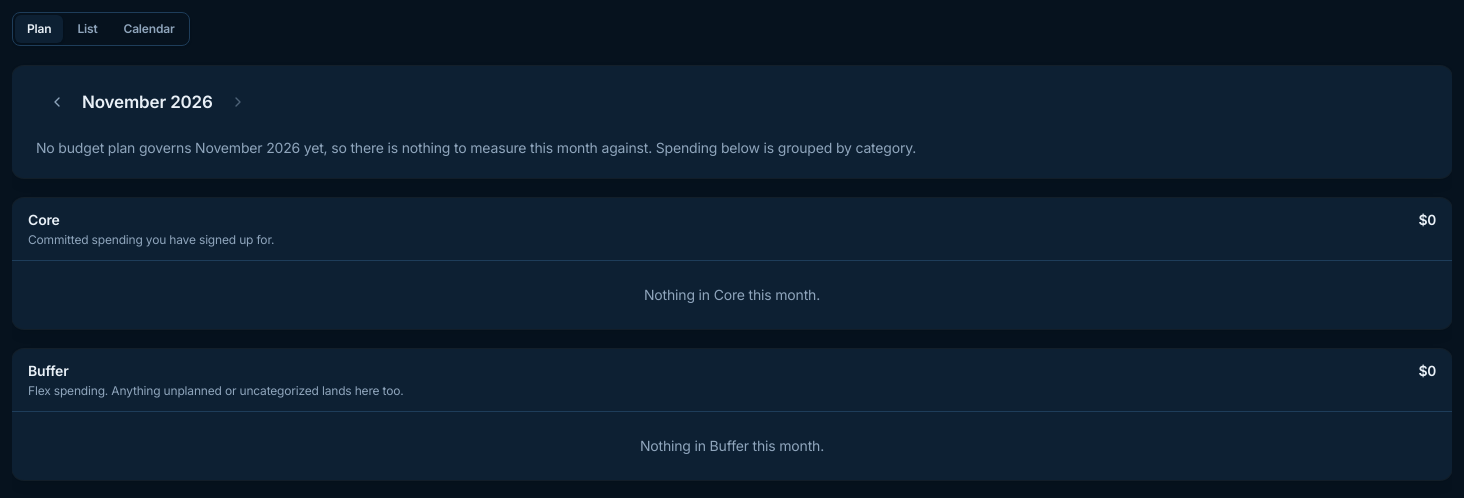
TransactionsSection account filter › is hidden when only one account is linked — it would have nothing to choose between
The image size is (1464, 498).
Step 1. Click the radio button labelled "List" → (87, 29), box [65, 15, 110, 43]
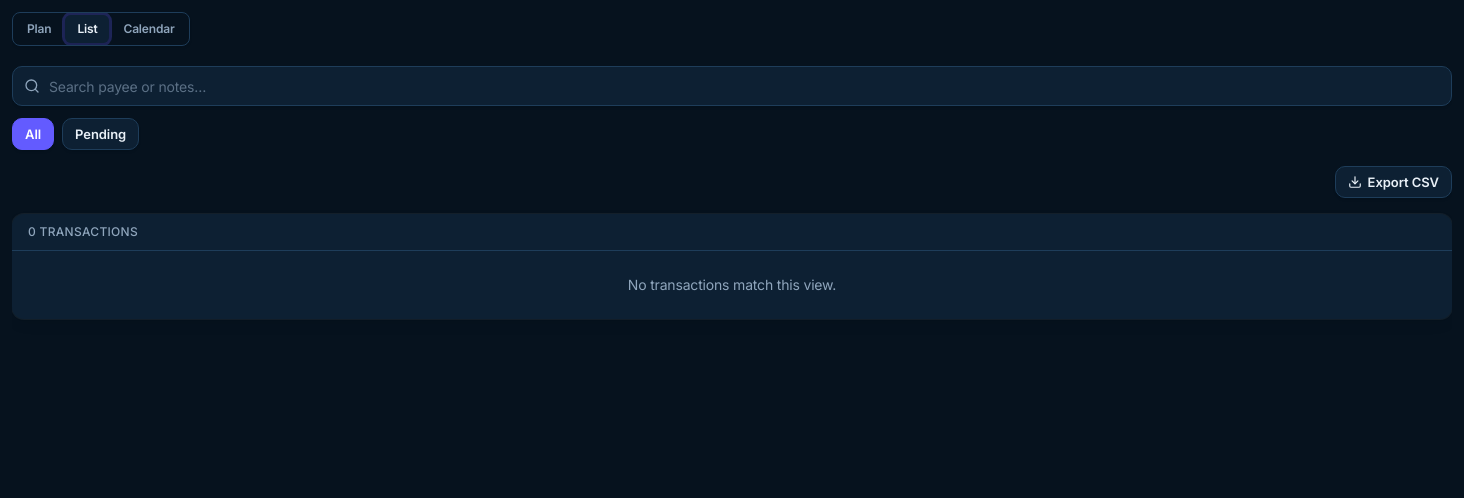
Expected: the search field named "Search transactions" is shown, [12, 66, 1452, 106]
